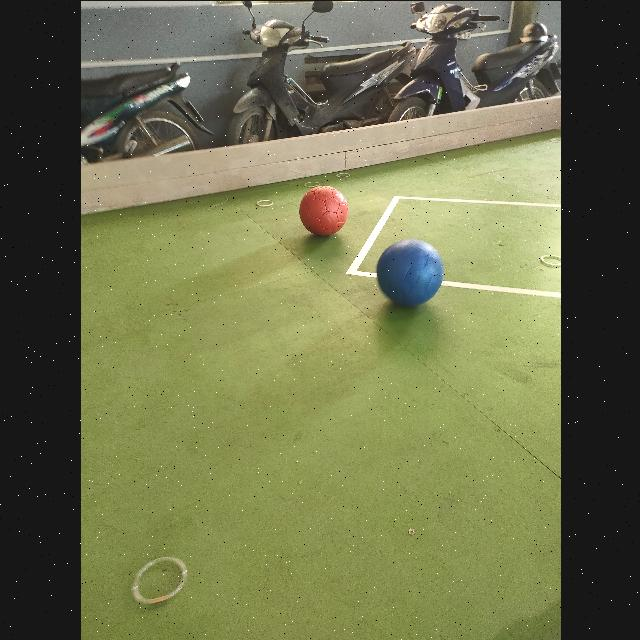B: (376, 239, 442, 305)
R: (298, 184, 348, 233)
